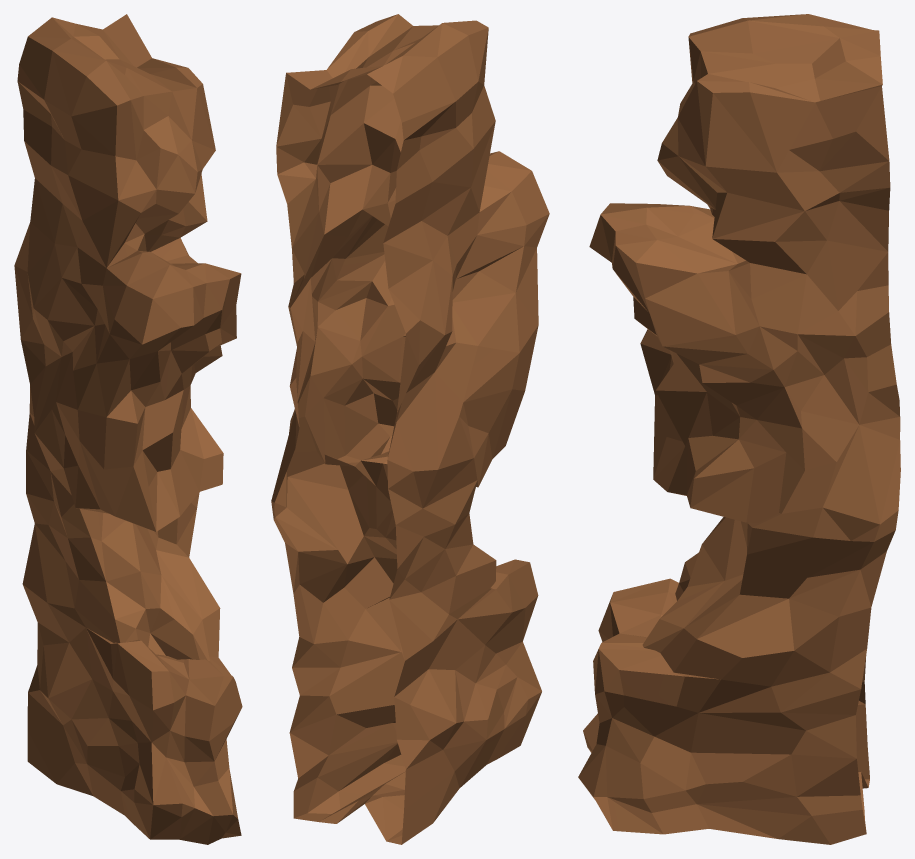
File: stone2_hard.fbx
The picture shows the model from 3 angles, left to right: view 1: azimuth 30°, elevation 25°; view 2: azimuth 150°, elevation 25°; view 3: azimuth 270°, elevation 25°; orthographic projection. The views are drawn at different scales.
Parts seen in each view (by area): view 1: stone2; view 2: stone2; view 3: stone2.
Part boxes in pixels (left/top/right/bottom): stone2: left=14, top=14, right=242, bottom=844; stone2: left=271, top=14, right=549, bottom=844; stone2: left=578, top=14, right=900, bottom=844.
Bounding box in the file's own units: 755 × 3233 × 1208.
